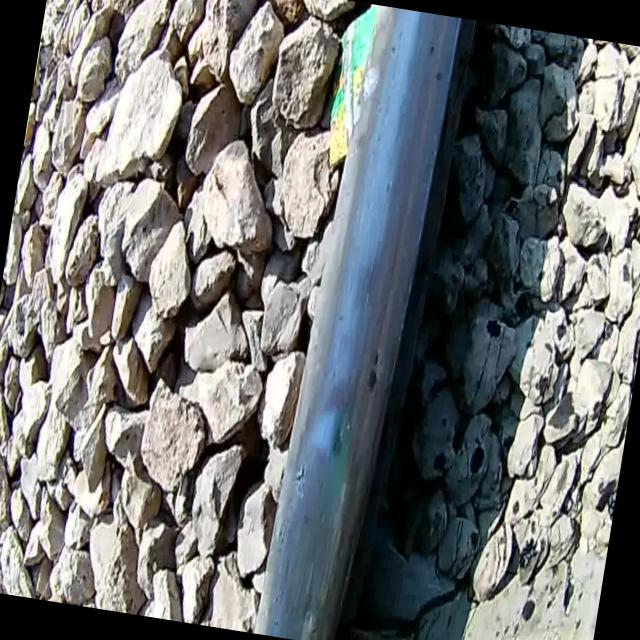Spallings: (309, 10, 471, 640)
Squats: (261, 435, 357, 640)
